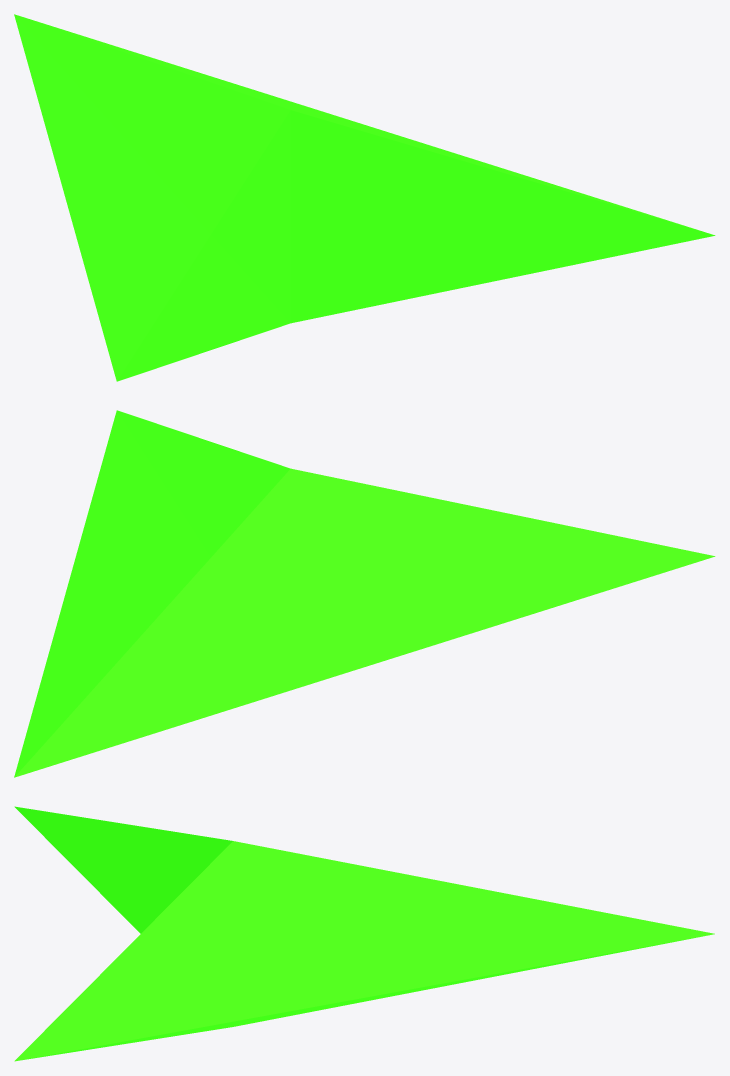
File: pointer.fbx
The picture shows the model from 3 angles, top to bottom: view 1: azimuth 30°, elevation 25°; view 2: azimuth 150°, elevation 25°; view 3: azimuth 270°, elevation 25°; orthographic projection. The views are drawn at different scales.
Parts seen in each view (by area): view 1: arrow_model; view 2: arrow_model; view 3: arrow_model.
Boxes of the visible parts, <box> form: arrow_model: <box>14,14,715,381</box>; arrow_model: <box>14,410,715,777</box>; arrow_model: <box>14,806,714,1061</box>.
Size of the model in its own units: 1.47 by 0.5 by 1.71.
